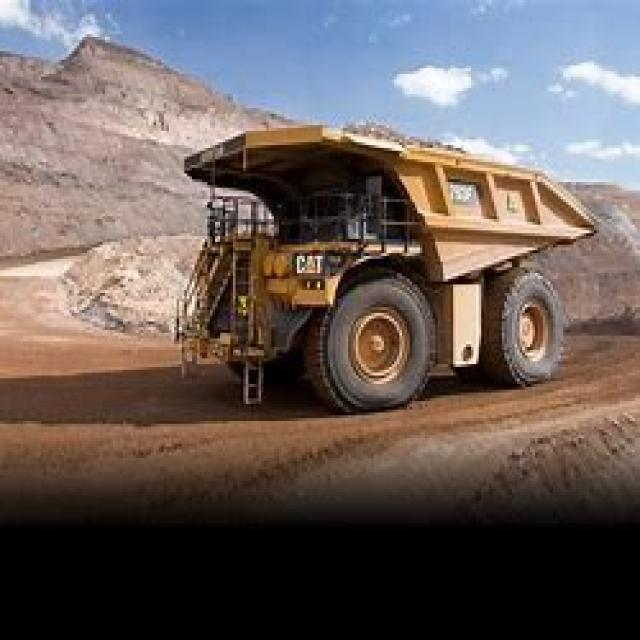dump_truck: (172, 120, 599, 401)
